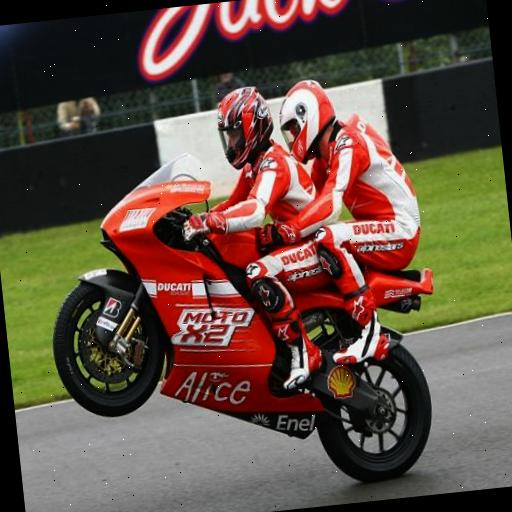helmet: (91, 57, 322, 412)
